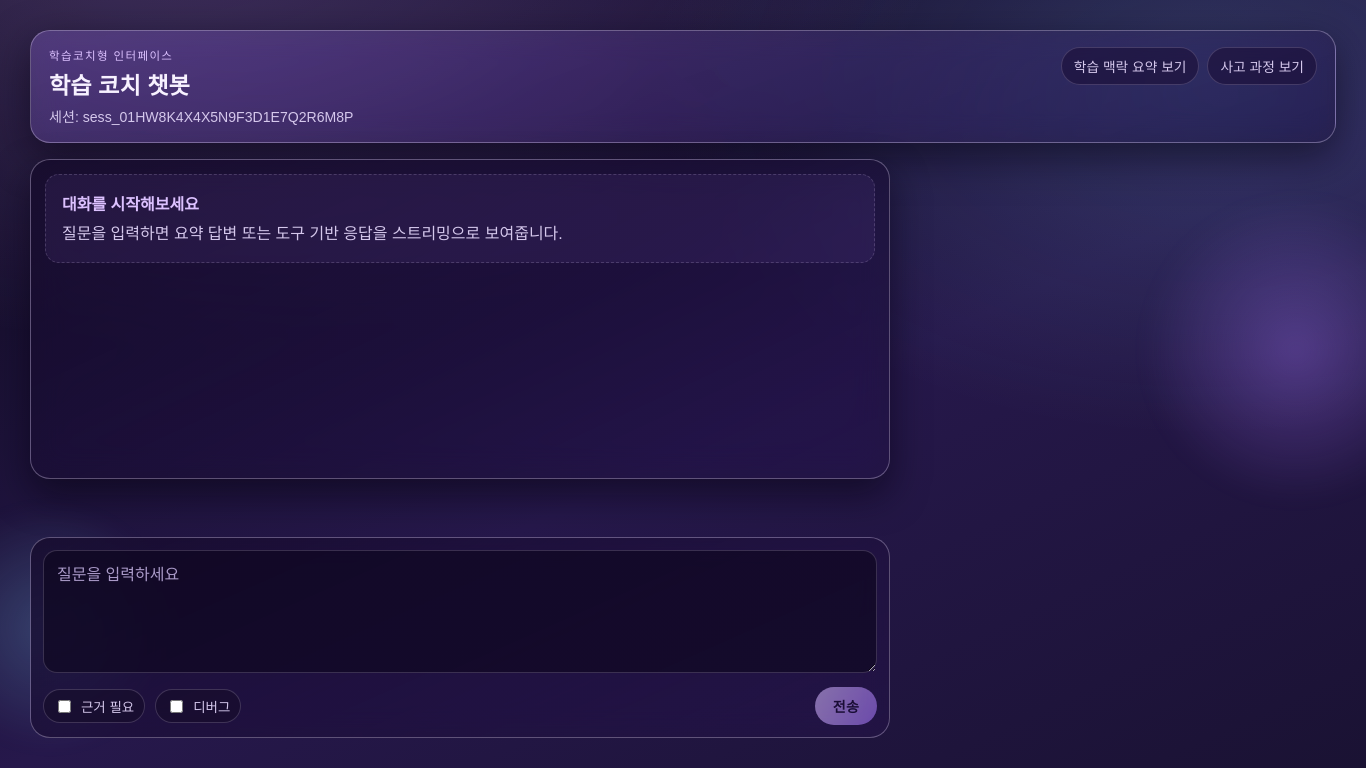
Scenario: UI /chat/[sessionId] › replaces token buffer with message.text on message event
Type "설명해줘" into the text box with placeholder "질문을 입력하세요" at (460, 612), box [43, 550, 877, 673]
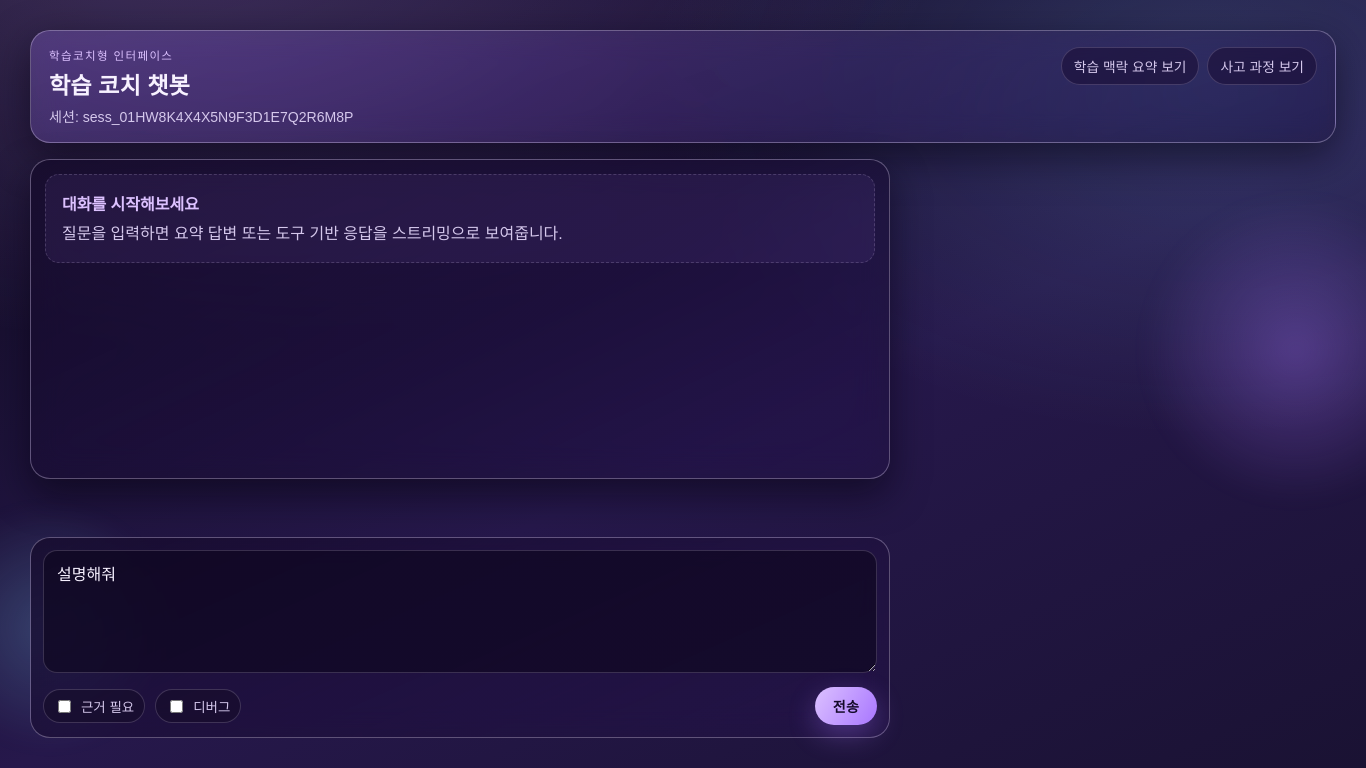
Click the button "전송" at (846, 706), box [815, 687, 877, 725]
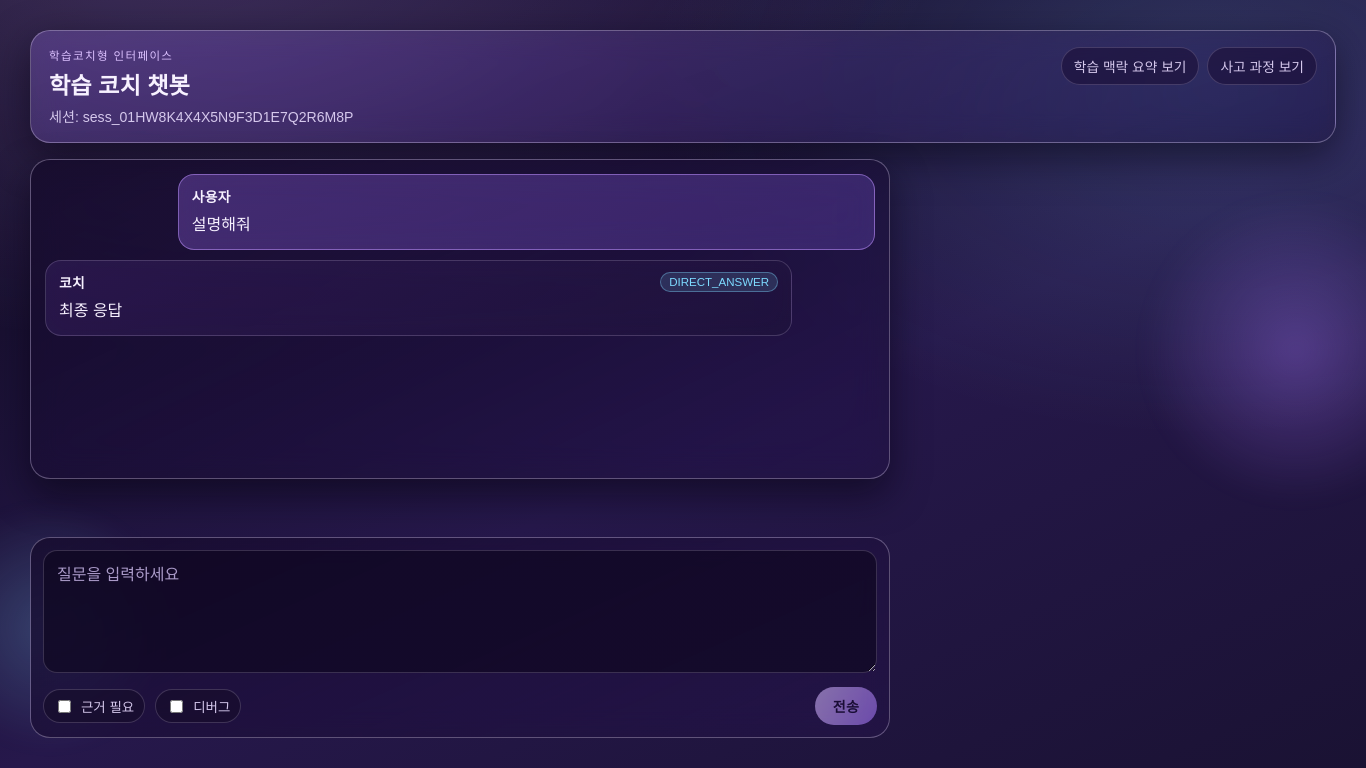
Now the text "최종 응답" is shown, box [59, 302, 122, 319]
